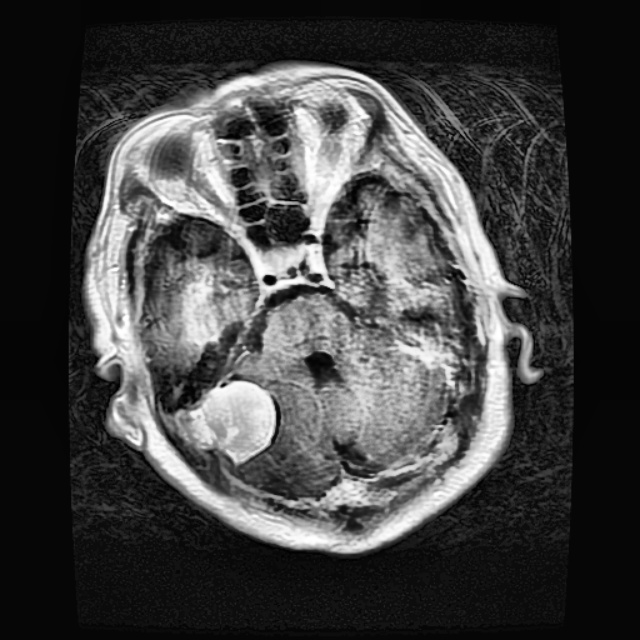Pituitary: (174, 380, 277, 464)
